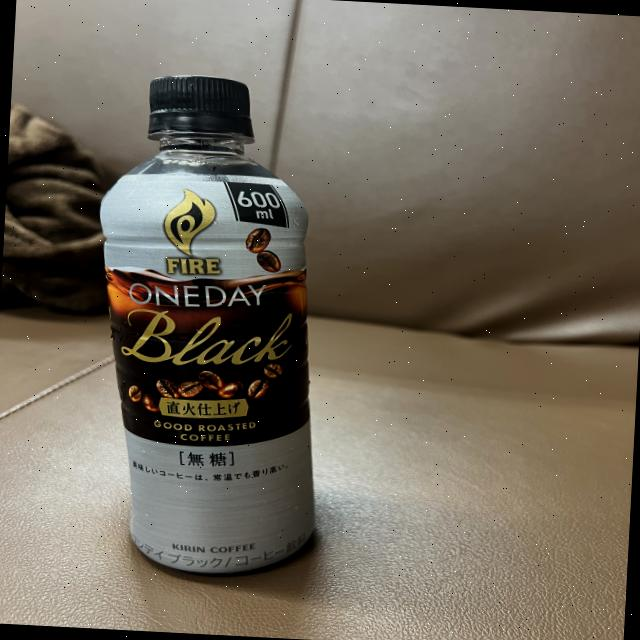coffee-black: (72, 71, 328, 580)
